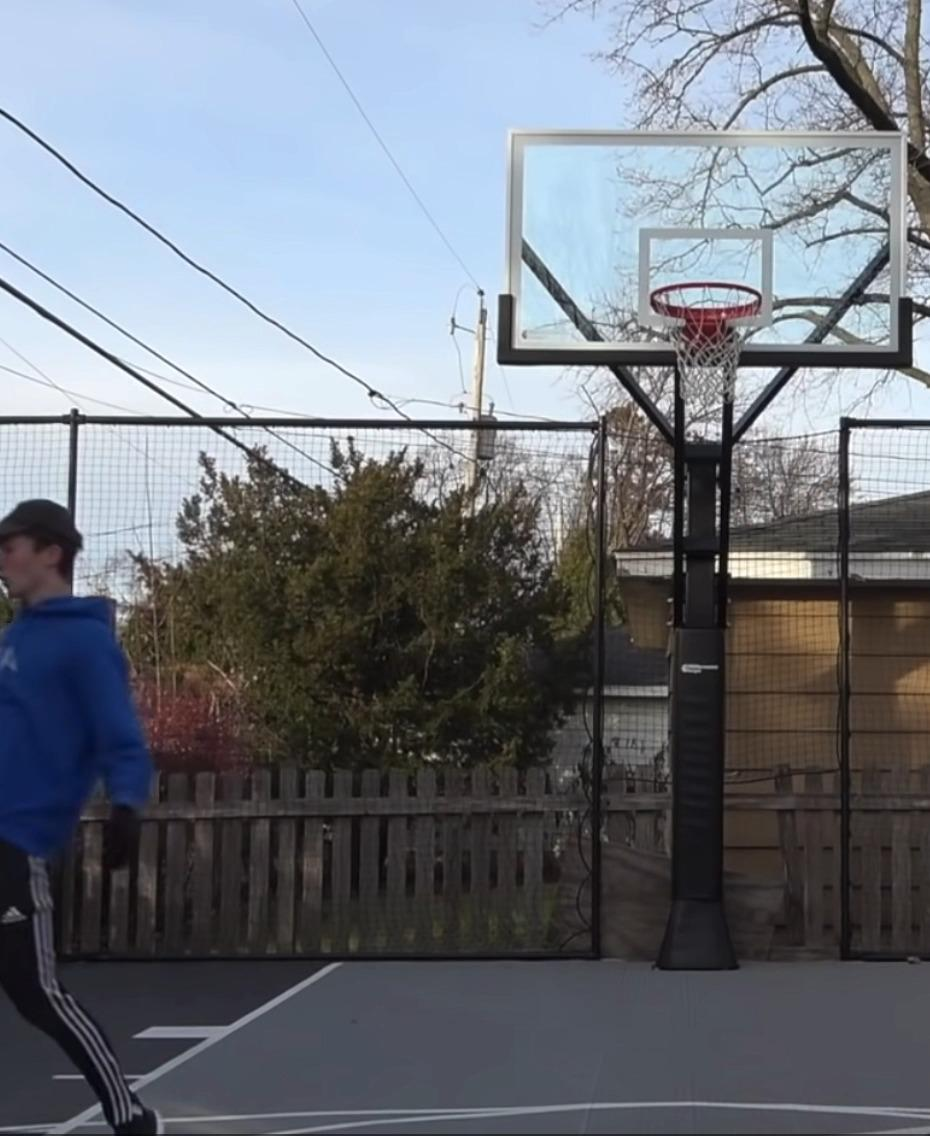person: (0, 496, 163, 1136)
